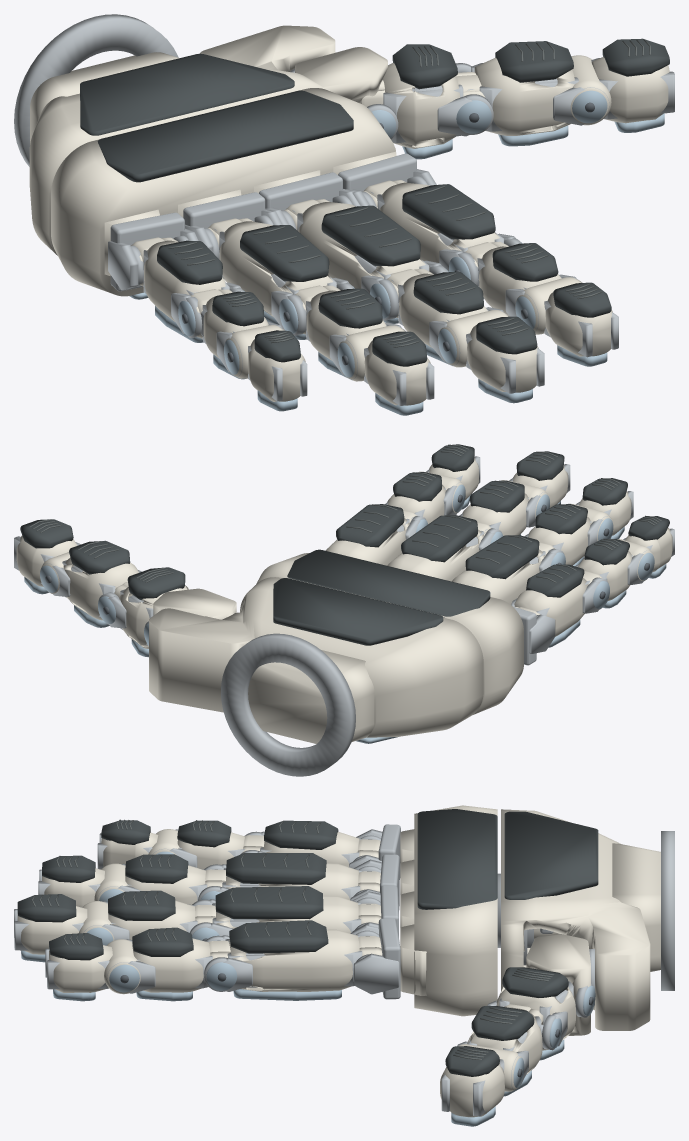
The model's file is reed11.glb.
3 renders of one model, top to bottom at view 1: azimuth 30°, elevation 25°; view 2: azimuth 150°, elevation 25°; view 3: azimuth 270°, elevation 25°, orthographic. The views are drawn at different scales.
Parts seen in each view (by area): view 1: visual__palm_turntable_link__1, visual__central_palm__0, visual__palm_turntable_link__3, visual__central_palm__3, visual__central_palm__1, visual__thumb_proximal__0, visual__thumb_distal__0, visual__middle_proximal__4, visual__thumb_metacarpal__0, visual__thumb_oppose_link__1, visual__middle_distal__0, visual__ring_proximal__0 (+52 smaller); view 2: visual__central_palm__0, visual__central_palm__1, visual__central_palm__3, visual__palm_turntable_link__3, visual__palm_turntable_link__1, visual__middle_proximal__4, visual__ring_proximal__4, visual__index_proximal__4, visual__thumb_proximal__0, visual__little_proximal__0, visual__ring_proximal__0, visual__thumb_oppose_link__1 (+31 smaller); view 3: visual__central_palm__0, visual__palm_turntable_link__1, visual__palm_turntable_link__3, visual__central_palm__3, visual__index_proximal__0, visual__middle_proximal__4, visual__thumb_oppose_link__1, visual__ring_proximal__4, visual__index_proximal__4, visual__index_mount__0, visual__index_distal__0, visual__central_palm__1 (+42 smaller).
Part boxes in pixels (bbox=[...]): visual__palm_turntable_link__1: bbox=[51, 88, 396, 296]; visual__central_palm__0: bbox=[29, 25, 335, 255]; visual__palm_turntable_link__3: bbox=[97, 90, 353, 182]; visual__central_palm__3: bbox=[80, 53, 294, 135]; visual__central_palm__1: bbox=[14, 14, 294, 166]; visual__thumb_proximal__0: bbox=[474, 57, 574, 135]; visual__thumb_distal__0: bbox=[570, 55, 669, 125]; visual__middle_proximal__4: bbox=[321, 205, 420, 266]; visual__thumb_metacarpal__0: bbox=[383, 63, 485, 148]; visual__thumb_oppose_link__1: bbox=[295, 47, 387, 106]; visual__middle_distal__0: bbox=[438, 310, 538, 392]; visual__ring_proximal__0: bbox=[219, 221, 340, 334]; visual__central_palm__0: bbox=[149, 577, 483, 743]; visual__central_palm__1: bbox=[221, 633, 355, 776]; visual__central_palm__3: bbox=[273, 578, 443, 645]; visual__palm_turntable_link__3: bbox=[287, 549, 490, 617]; visual__palm_turntable_link__1: bbox=[256, 553, 523, 714]; visual__middle_proximal__4: bbox=[401, 515, 477, 562]; visual__ring_proximal__4: bbox=[465, 535, 539, 579]; visual__index_proximal__4: bbox=[336, 504, 404, 547]; visual__thumb_proximal__0: bbox=[63, 557, 138, 620]; visual__little_proximal__0: bbox=[514, 570, 602, 636]; visual__ring_proximal__0: bbox=[452, 542, 554, 604]; visual__thumb_oppose_link__1: bbox=[153, 588, 236, 619]; visual__central_palm__0: bbox=[501, 809, 660, 1030]; visual__palm_turntable_link__1: bbox=[400, 805, 497, 1016]; visual__palm_turntable_link__3: bbox=[417, 809, 497, 909]; visual__central_palm__3: bbox=[504, 811, 598, 899]; visual__index_proximal__0: bbox=[208, 929, 359, 991]; visual__middle_proximal__4: bbox=[215, 886, 323, 919]; visual__thumb_oppose_link__1: bbox=[526, 934, 590, 1035]; visual__ring_proximal__4: bbox=[226, 853, 326, 884]; visual__index_proximal__4: bbox=[229, 920, 328, 953]; visual__index_mount__0: bbox=[350, 918, 400, 999]; visual__index_distal__0: bbox=[49, 939, 140, 994]; visual__central_palm__1: bbox=[523, 831, 674, 1005].
Bounding box in the file's own units: 0.1752 × 0.046 × 0.1901.
